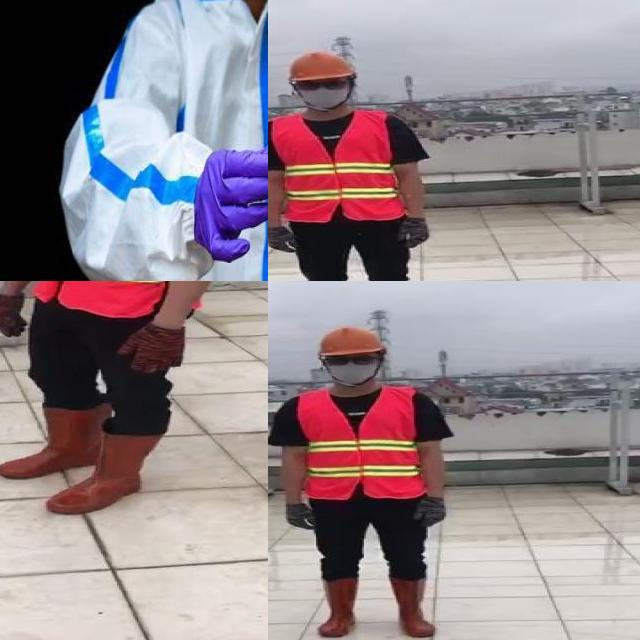BOOTS: (46, 431, 160, 514), (0, 406, 110, 481), (391, 577, 439, 640), (318, 576, 359, 640)
GLASS: (291, 81, 356, 91), (322, 358, 379, 366)
GLOVE: (116, 320, 187, 376), (0, 289, 32, 340), (412, 496, 449, 528), (397, 217, 431, 250), (268, 226, 304, 255), (283, 503, 320, 531)
Glove: (196, 127, 268, 264)
HELMET: (312, 325, 387, 358), (285, 49, 358, 82)
VEST: (296, 388, 428, 500), (271, 111, 405, 221)
